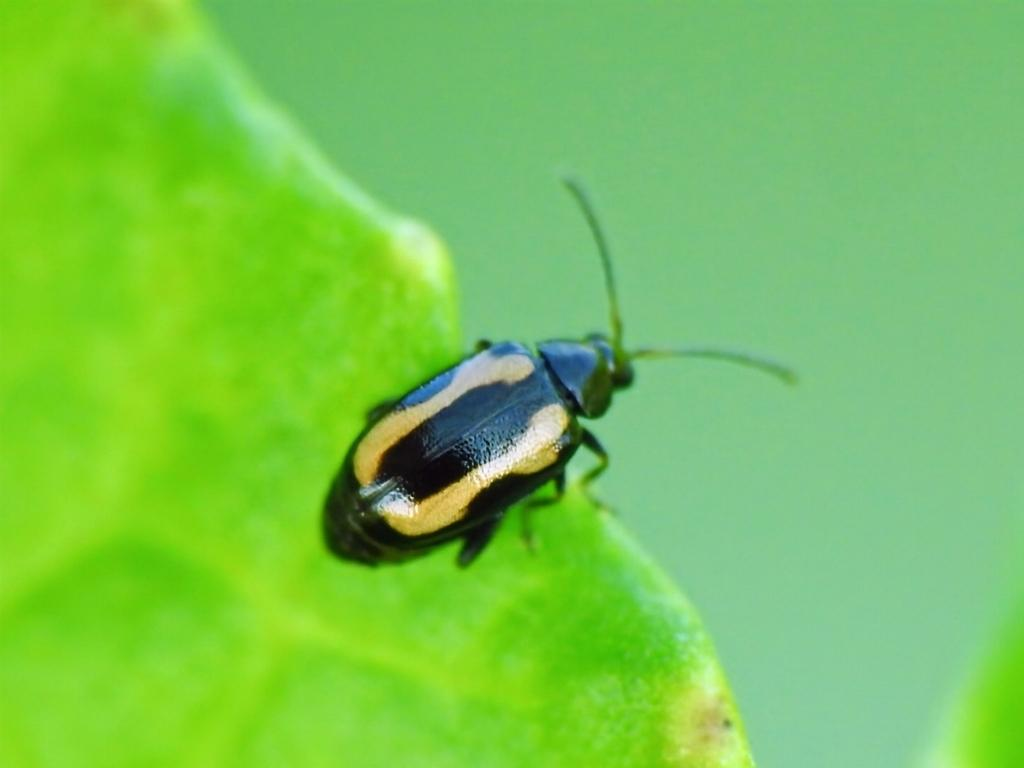flea_beetle: (234, 125, 814, 641)
